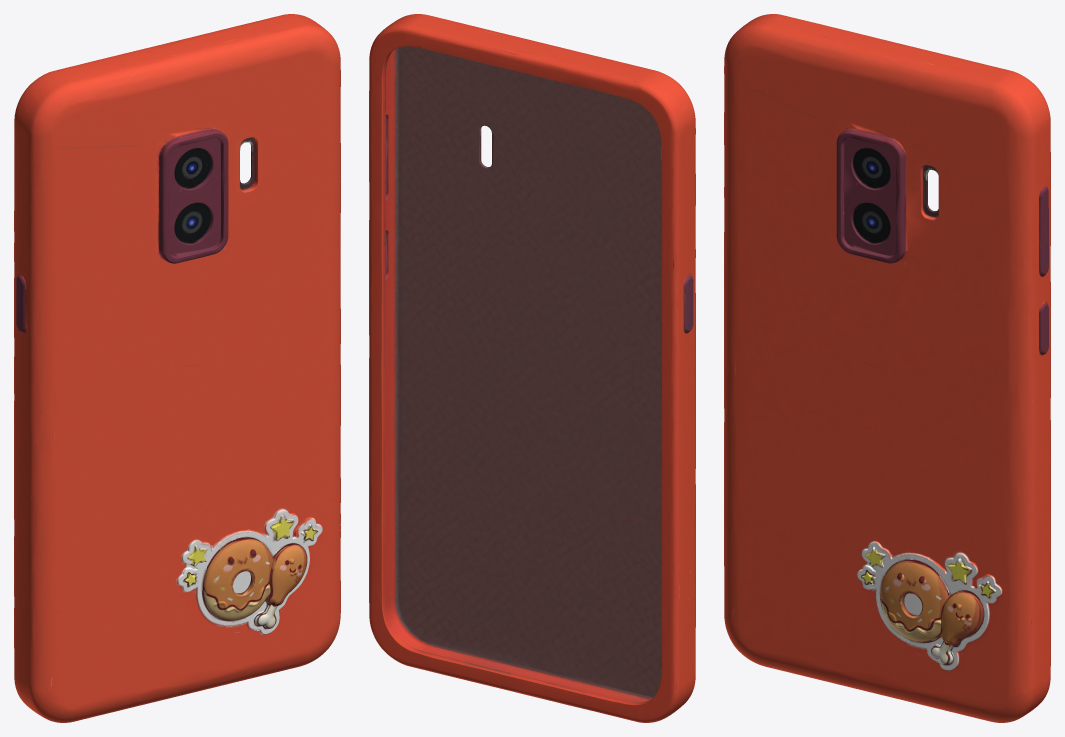
File: Meshy_AI_Orange_Snack_Phone_Case_20261030_texture.fbx
3 renders of one model, left to right at view 1: azimuth 30°, elevation 25°; view 2: azimuth 150°, elevation 25°; view 3: azimuth 330°, elevation 25°, orthographic.
Parts seen in each view (by area): view 1: Mesh_0; view 2: Mesh_0; view 3: Mesh_0.
Part boxes in pixels (bbox=[...]): Mesh_0: bbox=[14, 14, 340, 722]; Mesh_0: bbox=[369, 14, 695, 722]; Mesh_0: bbox=[724, 14, 1050, 722].
Size of the model in its own units: 98.21 by 190 by 17.94.
Materials: 1 (1 with a texture image).
